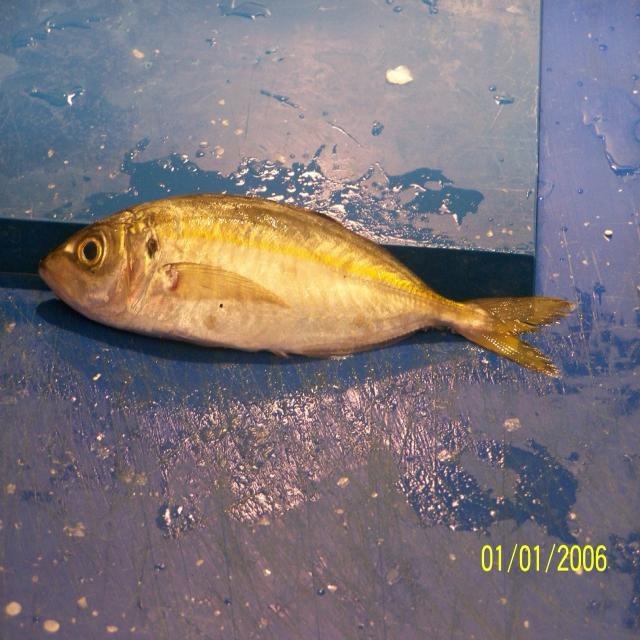Hourse-Mackerel-istavrit-: (36, 194, 575, 378)
